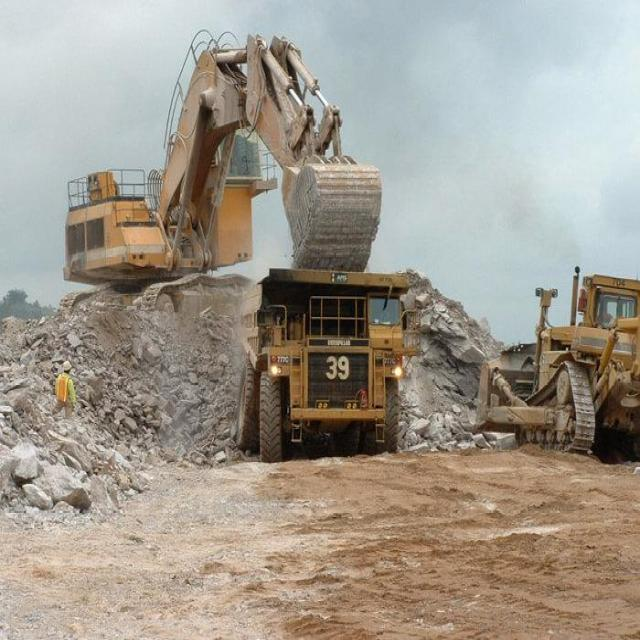Bulldozer: (467, 252, 639, 462)
Dump Truck: (226, 268, 418, 482)
